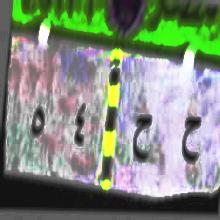4: (71, 95, 87, 153)
5: (27, 99, 48, 147)
7aa: (177, 104, 202, 167), (130, 105, 154, 168)
